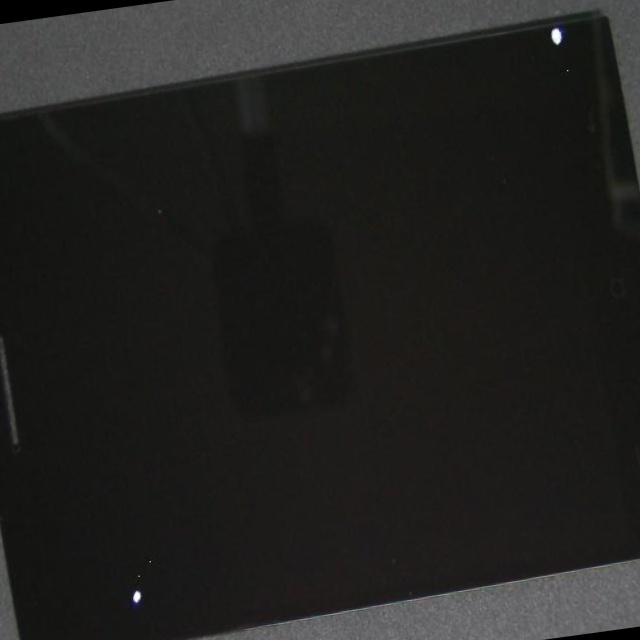stain: (18, 236, 222, 640), (233, 0, 640, 184)
